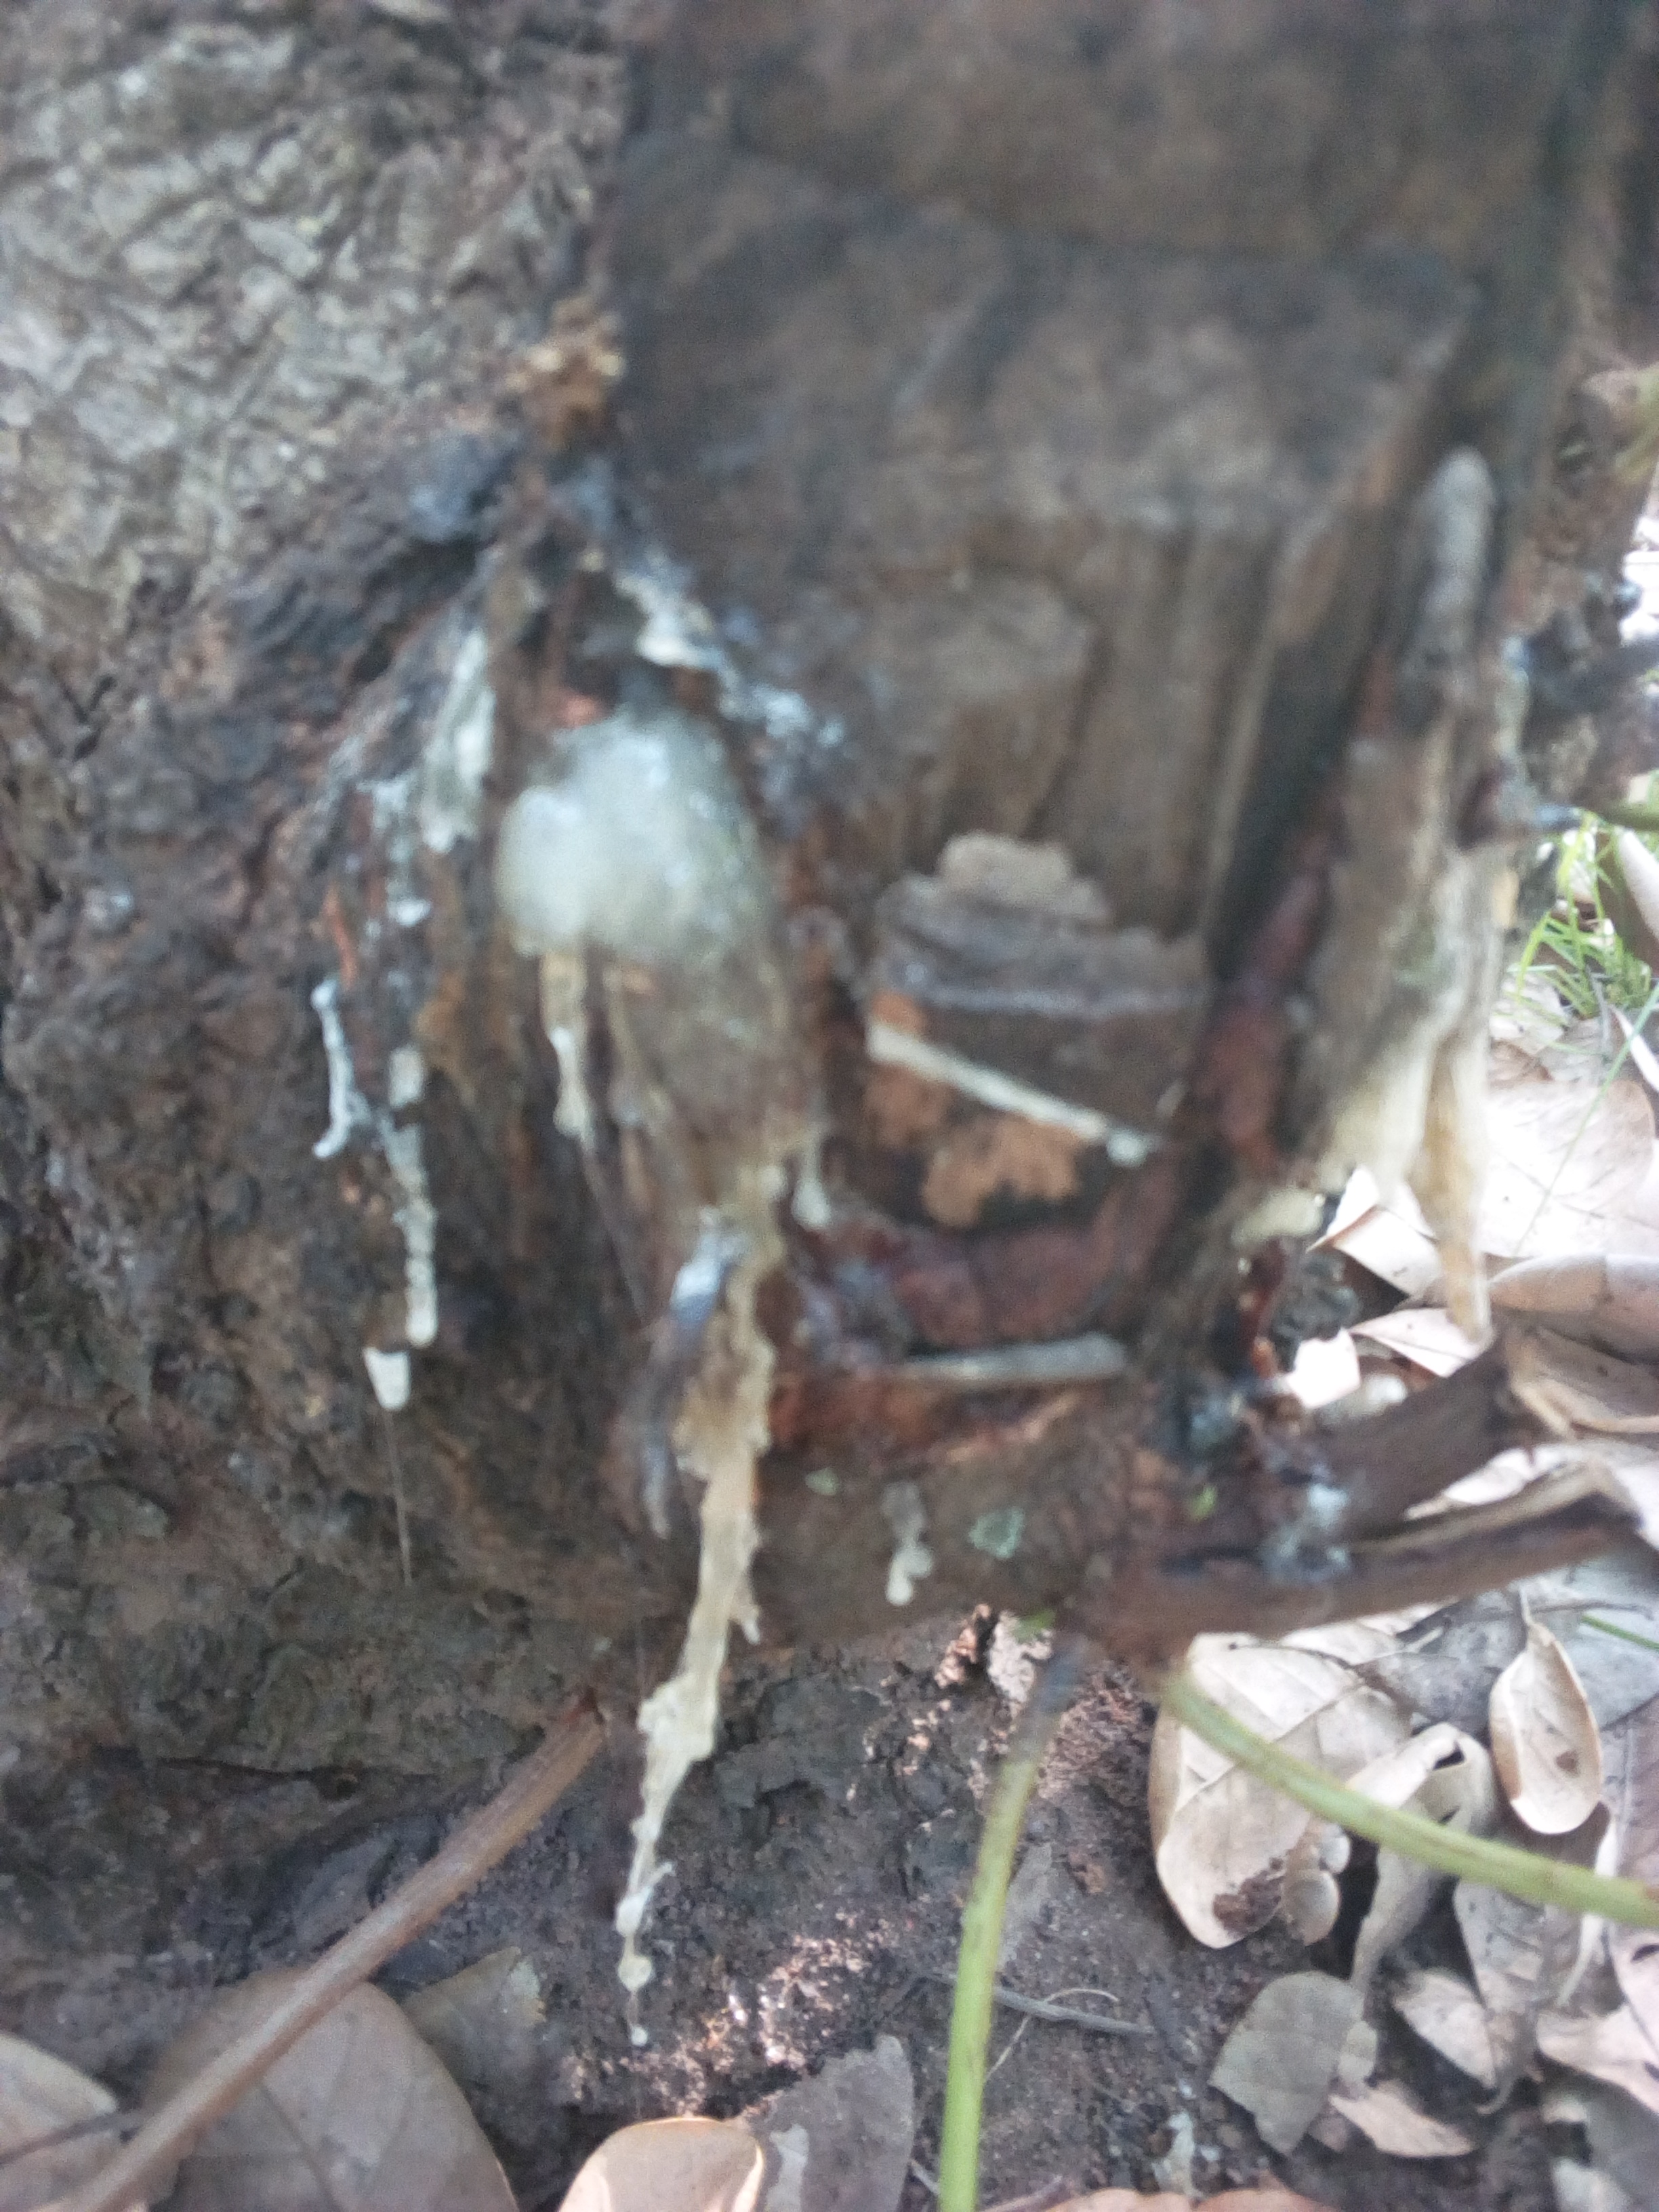Gommose: (227, 516, 904, 1618)
